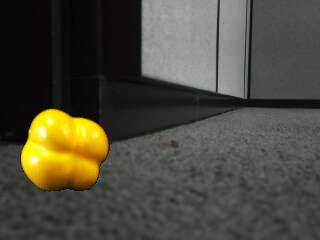Capsicum: (18, 105, 110, 195)
